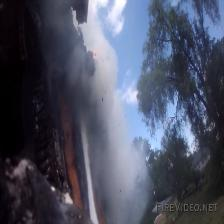smoke: (43, 7, 164, 224)
